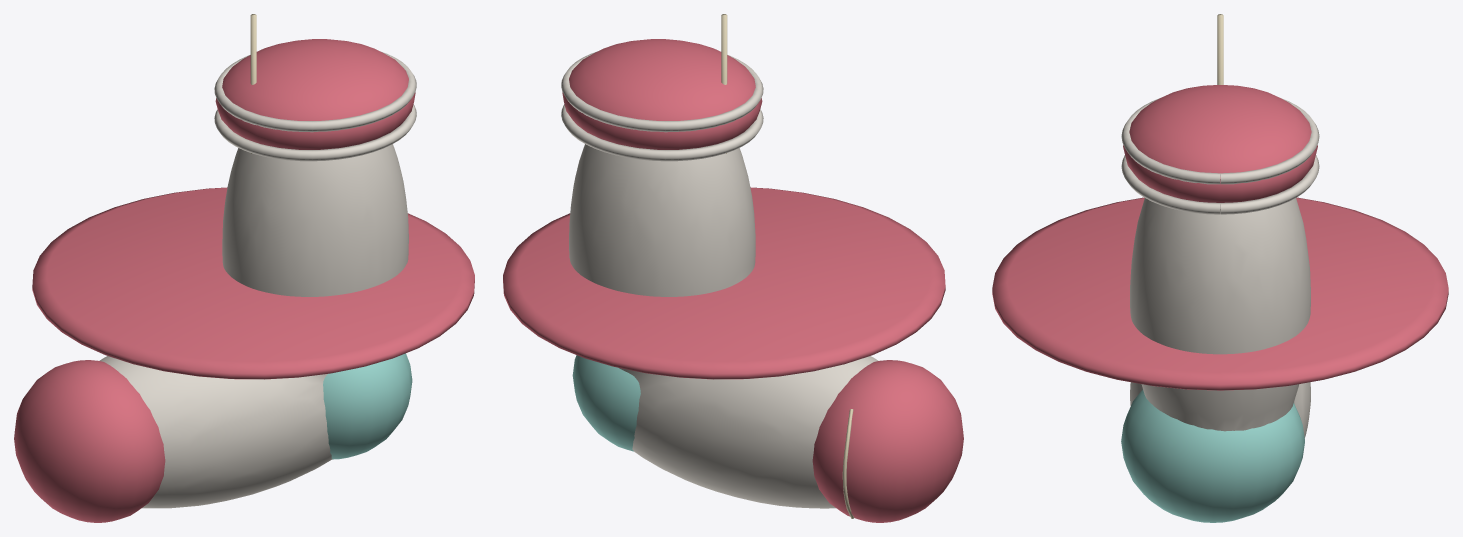
Rendered from sock.glb.
The picture shows the model from 3 angles, left to right: view 1: azimuth 30°, elevation 25°; view 2: azimuth 150°, elevation 25°; view 3: azimuth 270°, elevation 25°; orthographic projection. The views are drawn at different scales.
Visible parts, largest first — view 1: sock.Moving.vinyl, sock.Static.vinyl; view 2: sock.Moving.vinyl, sock.Static.vinyl; view 3: sock.Moving.vinyl, sock.Static.vinyl.
Part boxes in pixels (x1,y1,x2,y2): sock.Moving.vinyl: (14, 39, 416, 522); sock.Static.vinyl: (32, 187, 474, 379); sock.Moving.vinyl: (561, 39, 963, 522); sock.Static.vinyl: (503, 187, 945, 379); sock.Moving.vinyl: (1121, 85, 1319, 522); sock.Static.vinyl: (992, 197, 1448, 390).
Size of the model in its own units: 13.5 by 14.46 by 12.4.
